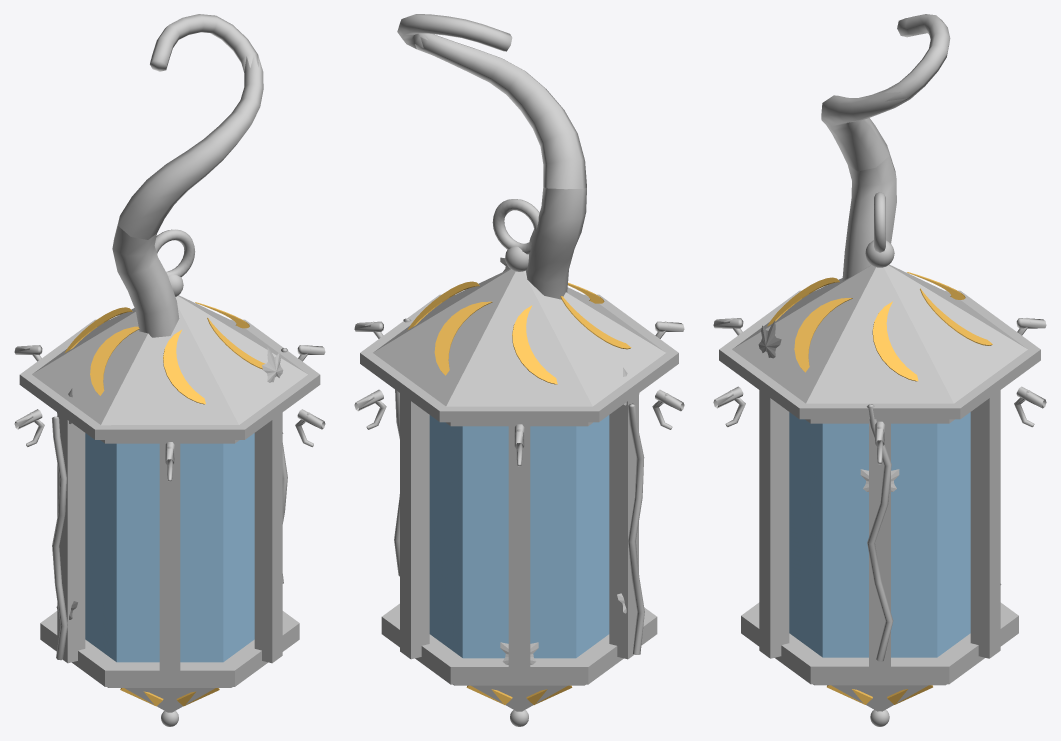
Rendered from LanternWisp.obj.
3 renders of one model, left to right at view 1: azimuth 30°, elevation 25°; view 2: azimuth 150°, elevation 25°; view 3: azimuth 270°, elevation 25°, orthographic. The views are drawn at different scales.
Visible parts, largest first — view 1: Vine, Glass, TailTailGreen2, TailTailGreen, Glow, TailTailGreen3; view 2: Vine, Glass, TailTailGreen2, TailTailGreen, Glow, TailTailGreen3; view 3: Vine, Glass, Glow, TailTailGreen2, TailTailGreen, TailTailGreen3.
Part boxes in pixels (box(x1,y1,x2,y2)): Vine: box(14, 229, 325, 726); Glass: box(85, 433, 254, 662); TailTailGreen2: box(118, 54, 263, 239); TailTailGreen: box(112, 217, 179, 337); Glow: box(65, 302, 265, 706); TailTailGreen3: box(150, 14, 258, 71); Vine: box(354, 199, 684, 726); Glass: box(429, 415, 609, 658); TailTailGreen2: box(415, 33, 586, 189); TailTailGreen: box(526, 187, 586, 299); Glow: box(408, 281, 631, 704); TailTailGreen3: box(397, 14, 512, 51); Vine: box(713, 192, 1046, 726); Glass: box(789, 412, 970, 657); Glow: box(767, 272, 992, 704); TailTailGreen2: box(821, 85, 909, 171); TailTailGreen: box(842, 146, 896, 280); TailTailGreen3: box(883, 14, 950, 107).
Size of the model in its own units: 1.56 by 3.28 by 1.37.
